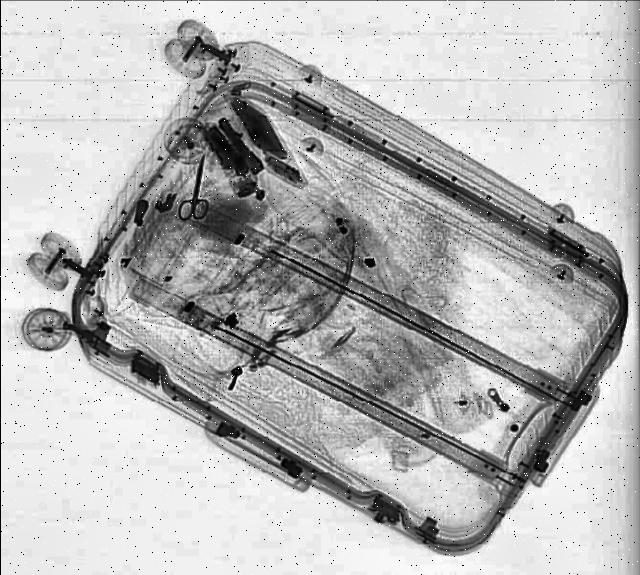Scissors: (178, 150, 218, 219)
